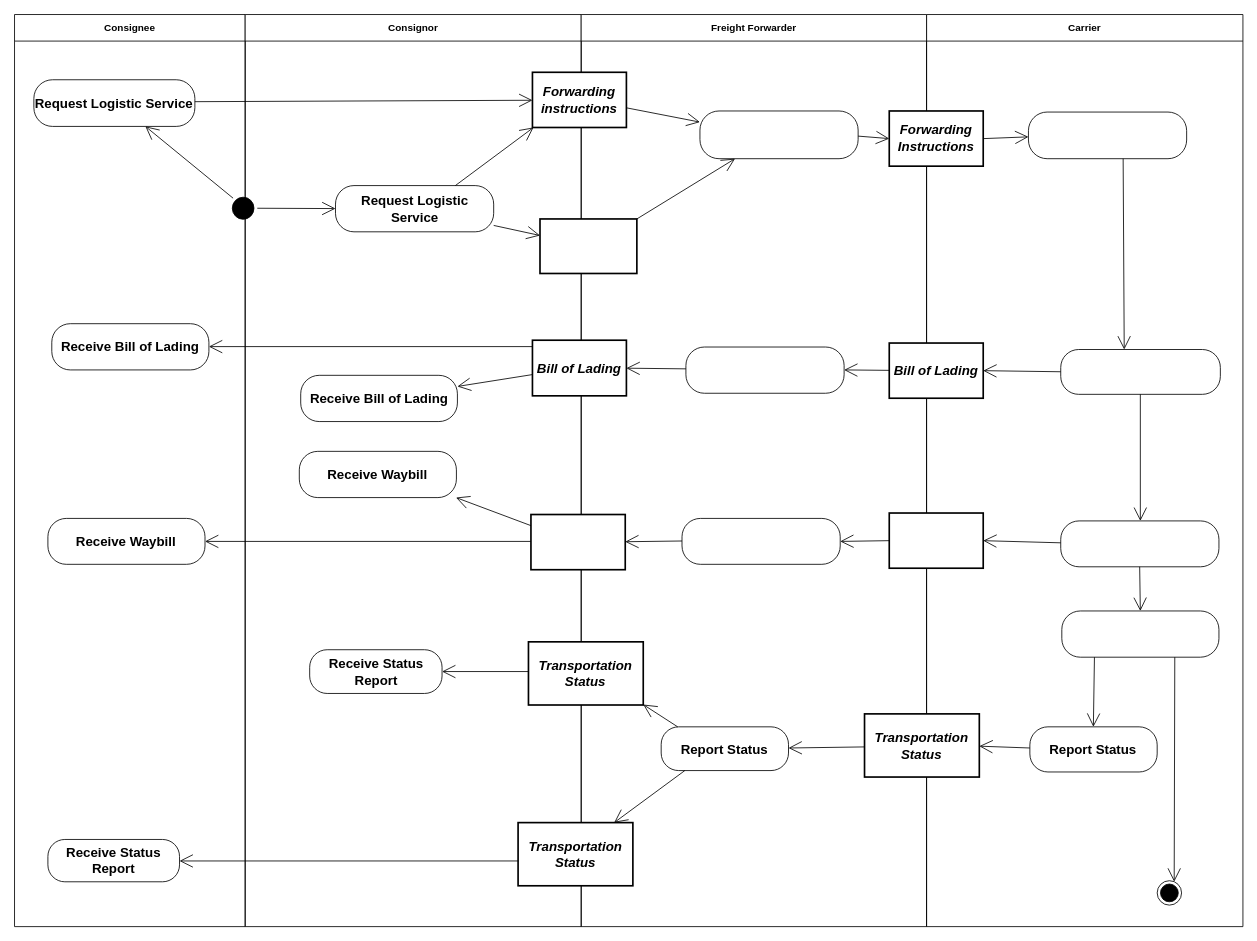
This 1257x941 diagram has some shape labels left out. The centre of each missing label's shape, as x and y in pixels:
"Packing List" goes at point 588,246.
"Receive Transport Service Request" goes at point 1107,135.
"Request Transport Service" goes at point 778,134.
"Send Bill of Lading" goes at point 1140,371.
"Send Bill of Lading to Consignor" goes at point 764,369.
"Send Waybill to Consignor" goes at point 760,541.
"Send Waypbill" goes at point 1139,543.
"Transport Goods Items to Delivery Party" goes at point 1140,633.
"Way bill" goes at point 936,540.
"Waybill" goes at point 578,541.
